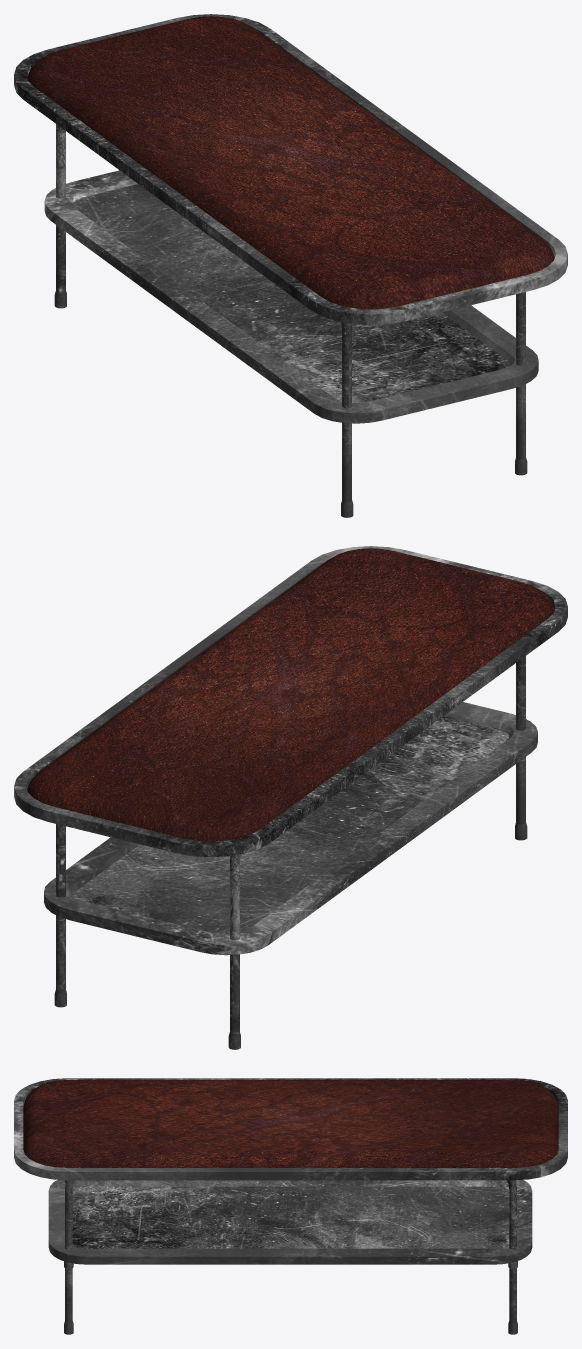
The model's file is retext_surgical_table.fbx.
The picture shows the model from 3 angles, top to bottom: view 1: azimuth 30°, elevation 25°; view 2: azimuth 150°, elevation 25°; view 3: azimuth 270°, elevation 25°; orthographic projection. The views are drawn at different scales.
Visible parts, largest first — view 1: polySurface269; view 2: polySurface269; view 3: polySurface269.
Boxes of the visible parts, box(x1,y1,x2,y2) form: polySurface269: box(14, 14, 567, 517); polySurface269: box(14, 546, 567, 1049); polySurface269: box(14, 1078, 567, 1334).
Bounding box in the file's own units: 120 × 109 × 300.
Materials: 1 (1 with a texture image).
